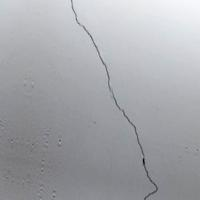crack: (63, 0, 163, 199)
